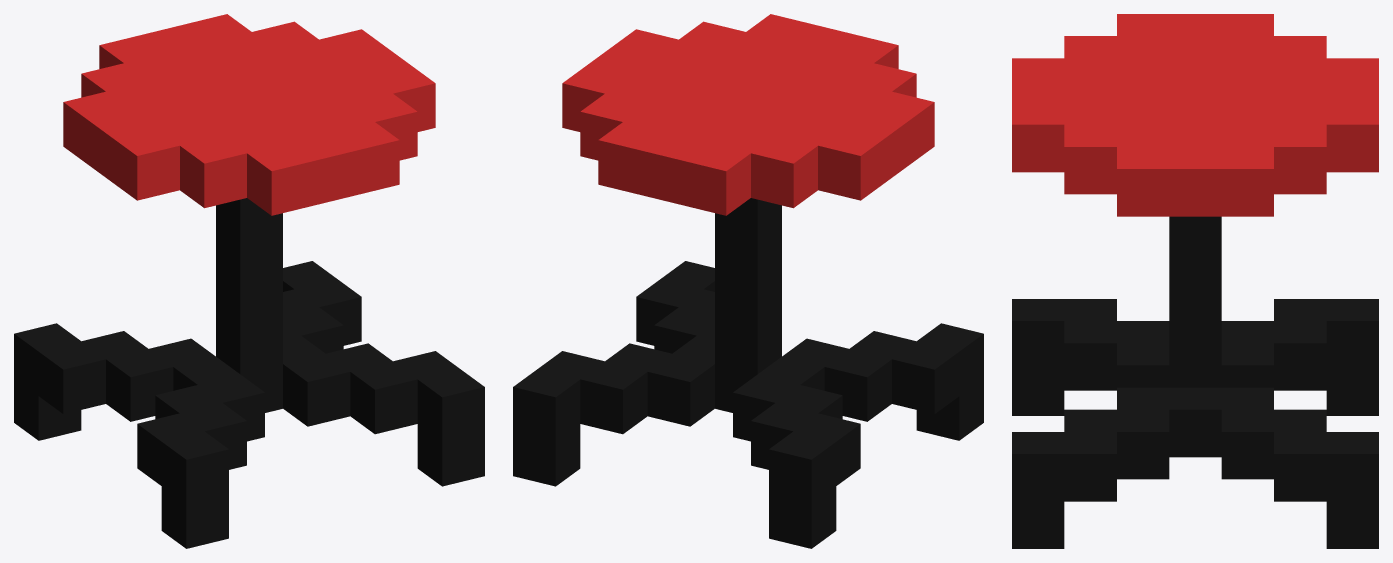
The model's file is Chair.fbx.
3 renders of one model, left to right at view 1: azimuth 30°, elevation 25°; view 2: azimuth 150°, elevation 25°; view 3: azimuth 270°, elevation 25°, orthographic. The views are drawn at different scales.
Visible parts, largest first — view 1: Chair; view 2: Chair; view 3: Chair.
Boxes of the visible parts, box(x1,y1,x2,y2) form: Chair: box(14, 14, 484, 548); Chair: box(513, 14, 983, 548); Chair: box(1012, 14, 1378, 548).
Bounding box in the file's own units: 564 × 644 × 564.
